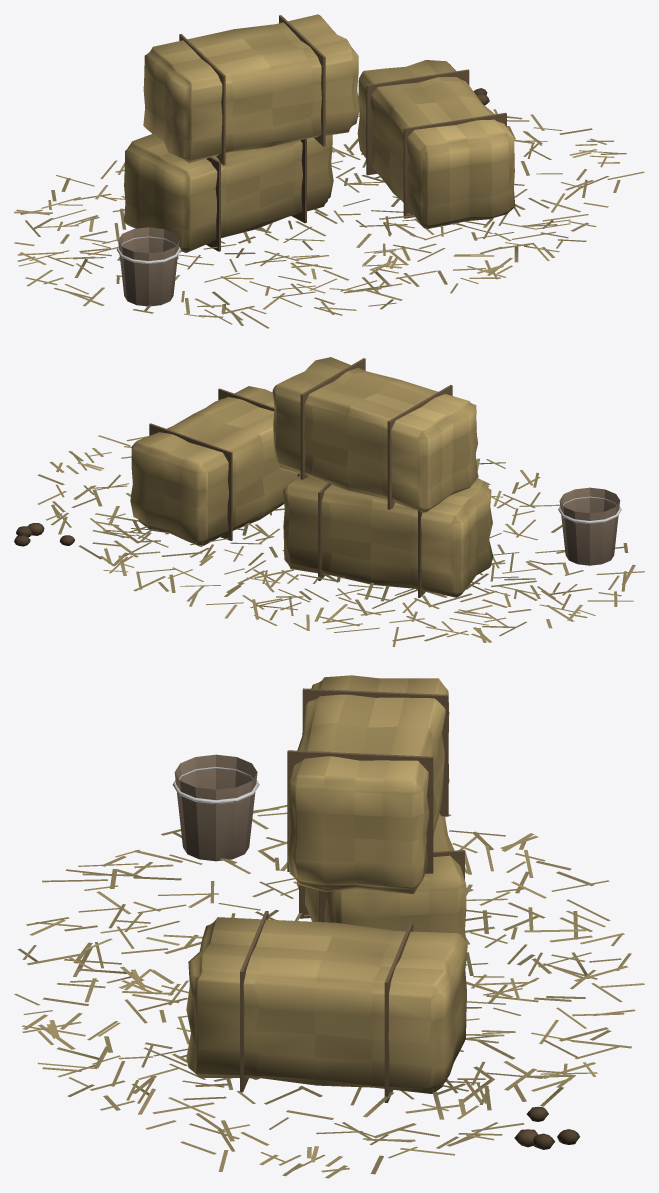
The model's file is heap_hay.glb.
The picture shows the model from 3 angles, top to bottom: view 1: azimuth 30°, elevation 25°; view 2: azimuth 150°, elevation 25°; view 3: azimuth 270°, elevation 25°; orthographic projection. The views are drawn at different scales.
Parts seen in each view (by area): view 1: heap_hay; view 2: heap_hay; view 3: heap_hay.
Part boxes in pixels (x1=…): heap_hay: x1=14, y1=14, x2=644, y2=328; heap_hay: x1=14, y1=357, x2=644, y2=646; heap_hay: x1=14, y1=675, x2=644, y2=1178.
Size of what is drawn, in the model's own units: 3.32 by 0.9324 by 2.28.
